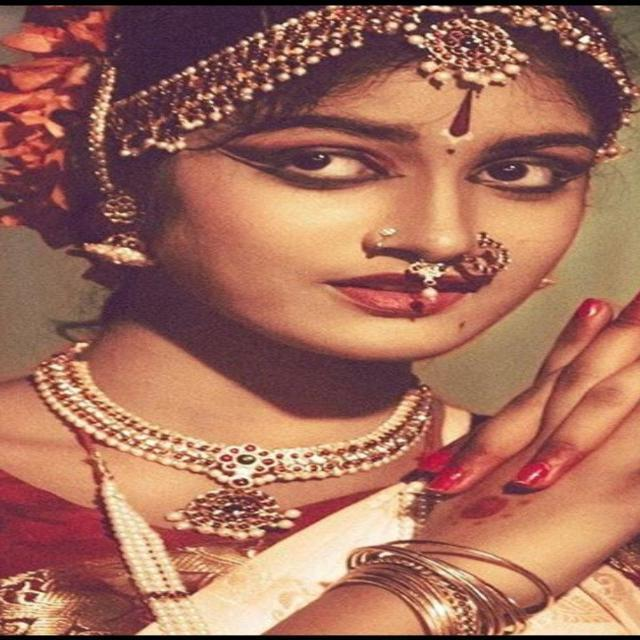Earring: (80, 138, 180, 289)
